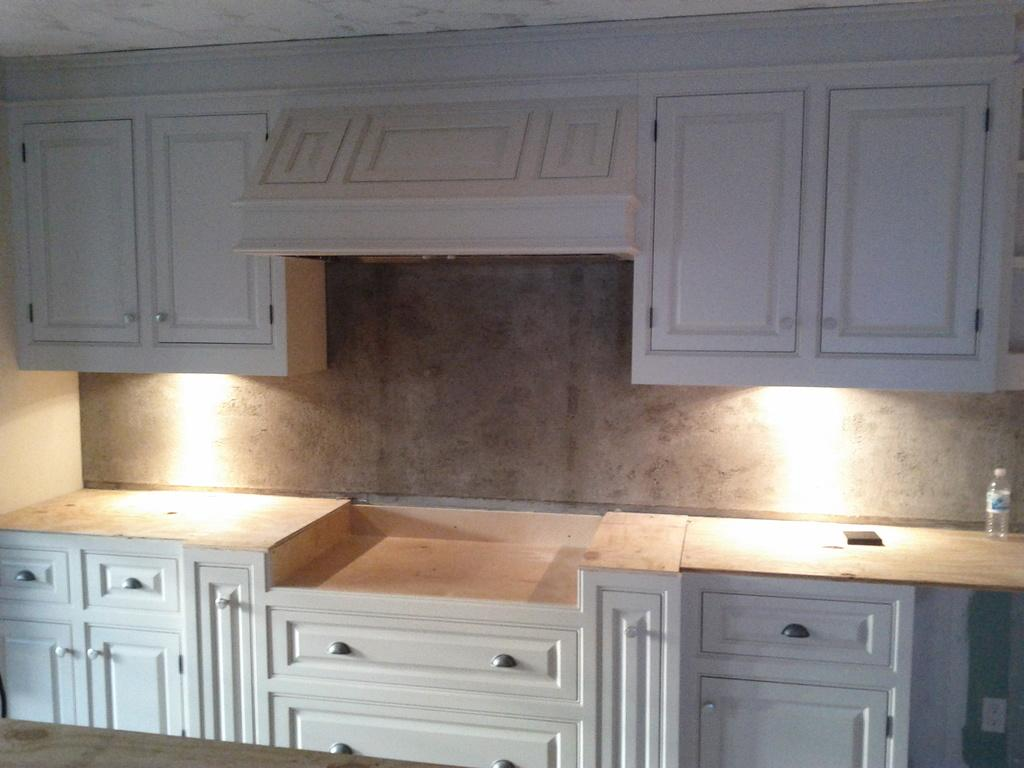cabinet_door: (650, 102, 804, 360), (828, 102, 982, 358), (145, 125, 275, 340), (18, 127, 140, 346), (283, 620, 575, 698), (274, 705, 572, 768), (700, 681, 886, 768), (702, 596, 892, 666), (194, 559, 266, 735), (598, 593, 668, 768), (92, 646, 174, 728), (78, 556, 180, 621), (4, 632, 74, 722), (2, 550, 74, 609)
handle: (780, 616, 811, 648), (332, 740, 358, 764), (114, 574, 150, 591), (492, 651, 518, 672), (15, 566, 41, 586), (330, 639, 352, 659), (86, 646, 104, 664), (54, 639, 70, 658), (497, 754, 516, 768)
